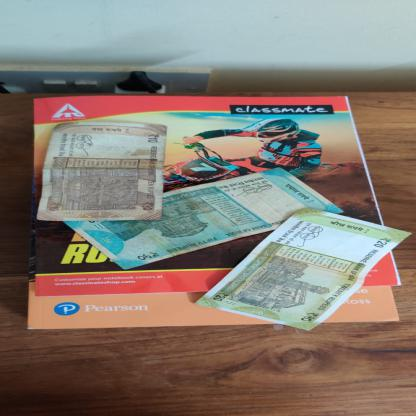New10Back: (38, 121, 169, 221)
New20Back: (194, 207, 415, 332)
New50Back: (64, 166, 348, 271)
